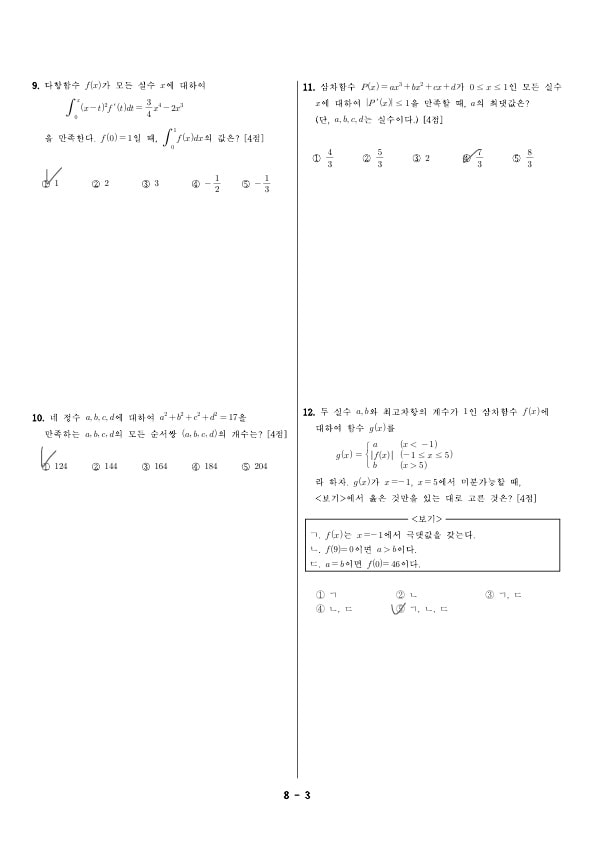question: (298, 397, 568, 626), (23, 74, 283, 208), (297, 69, 569, 181), (22, 404, 294, 484)
